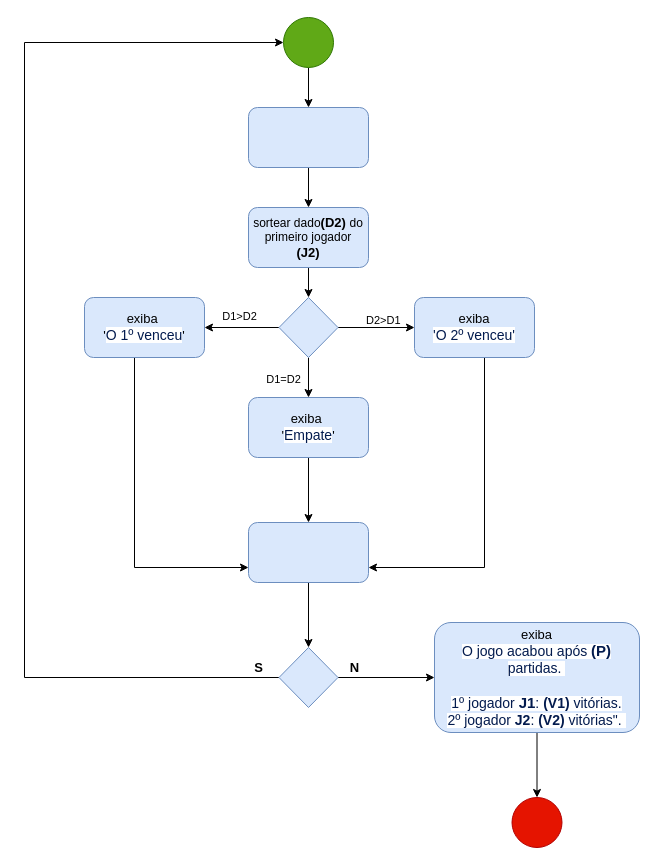
Image size: 657x865. Some labels were removed from this diagram. The centre of each missing label's shape, as x and y in pixels:
"exiba 'Nova partida?' sim (S) não (N)" goes at (x=308, y=552).
"sortear dado (D1) do primeiro jogador (J1)" goes at (x=308, y=137).
